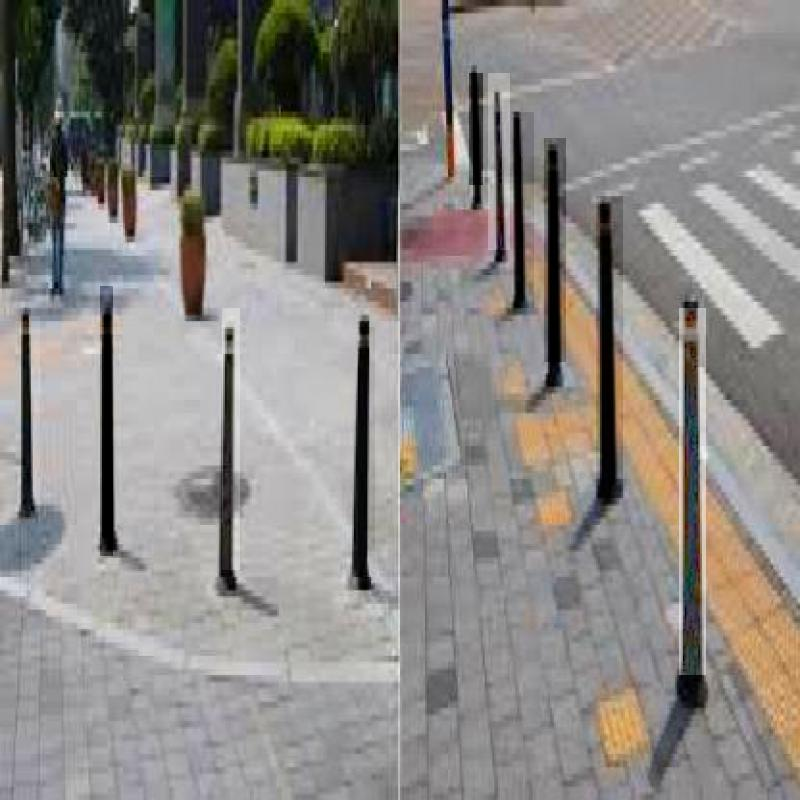bolard: (679, 308, 706, 675), (596, 196, 623, 498), (544, 138, 566, 362), (222, 308, 240, 570), (358, 327, 375, 589), (514, 112, 534, 308), (488, 73, 510, 250), (100, 286, 113, 556), (23, 316, 40, 512), (469, 73, 483, 185)
